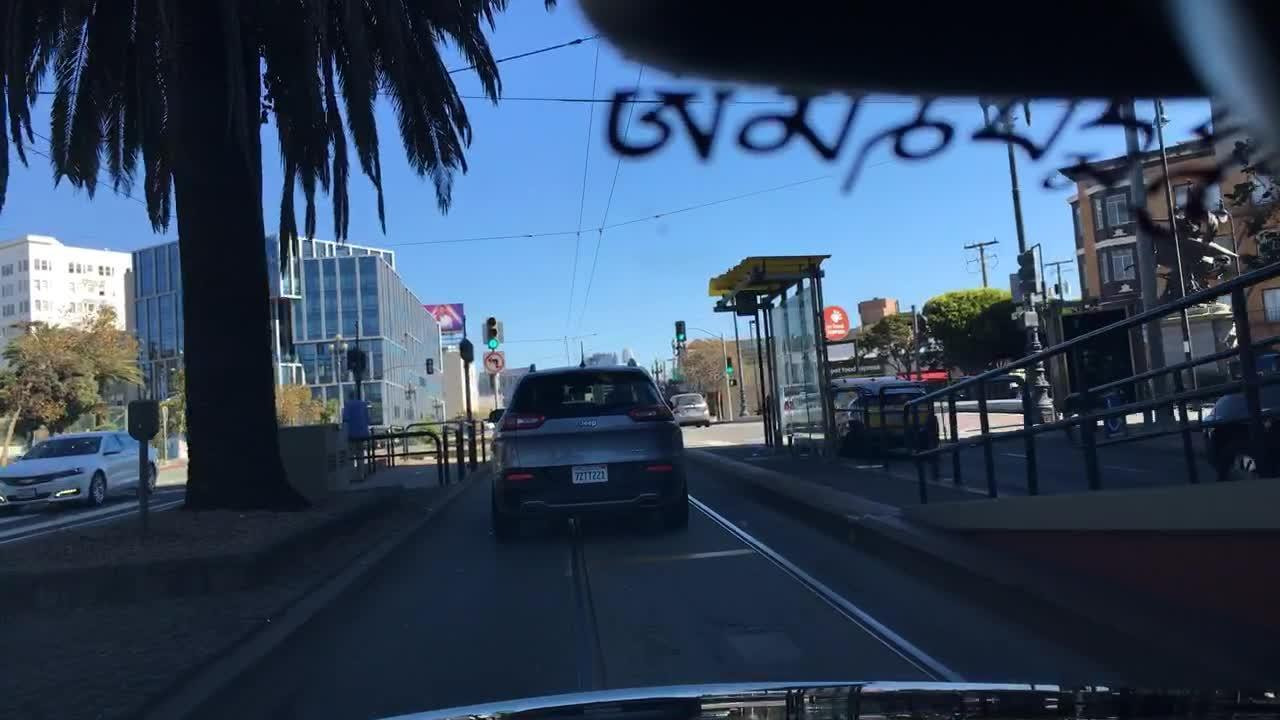jeep: (568, 417, 604, 433)
